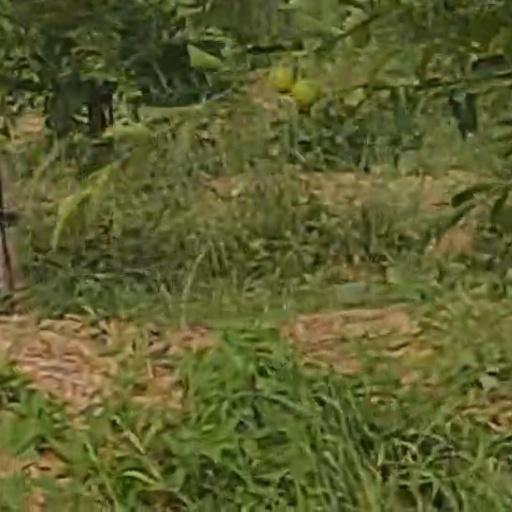acerola: (273, 62, 294, 91), (298, 84, 318, 109)
